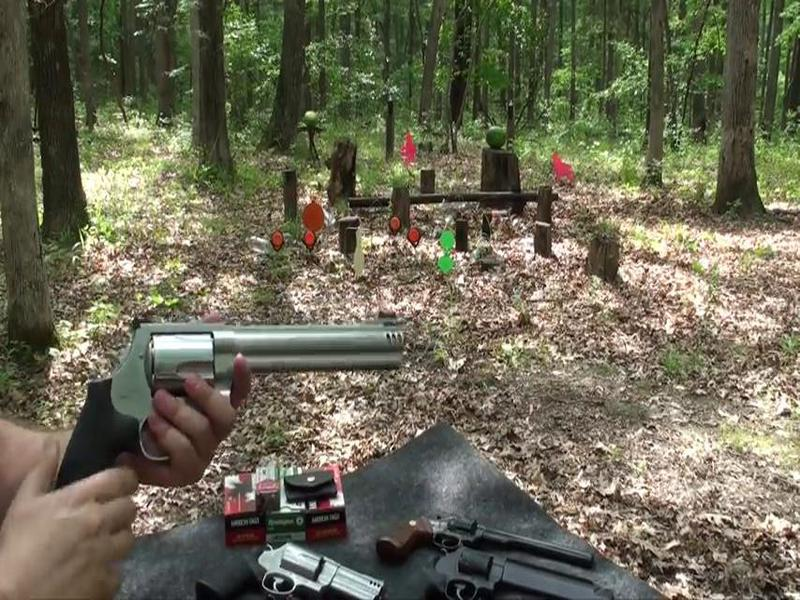Revolver: (71, 297, 426, 461)
